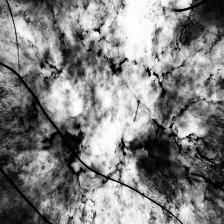Benign Marking or Mole: (26, 28, 224, 190)
